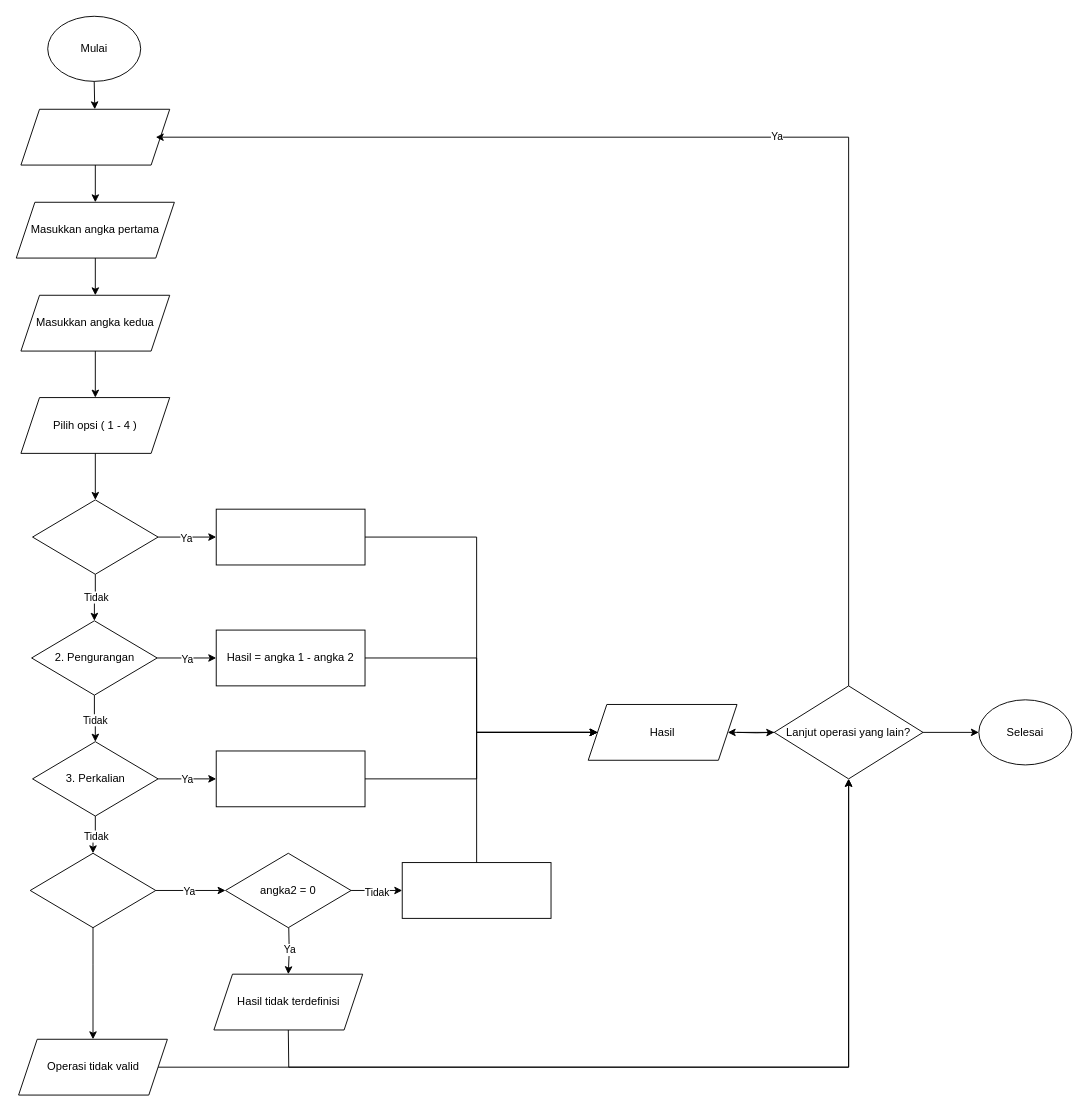
Image size: 1088x1111. Some labels were removed from this diagram. The shapes that lost their labels are listed below. From the top down, each one's box as (x1, y1, x2, y2) in pixels, then its label:
(20, 108, 170, 165): Tampilkan menu
(32, 499, 158, 574): 1. Penjumlahan
(215, 508, 365, 565): Hasil = angka 1 + angka 2
(215, 750, 365, 807): Hasil = angka 1 * angka 2
(29, 852, 156, 928): 4. Pembagian
(401, 862, 551, 918): Hasil = angka 1 / angka 2
